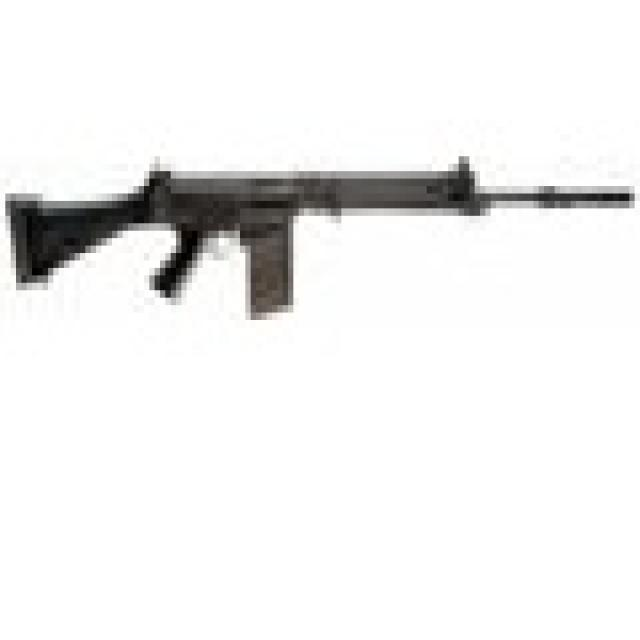Gun: (0, 120, 640, 389)
